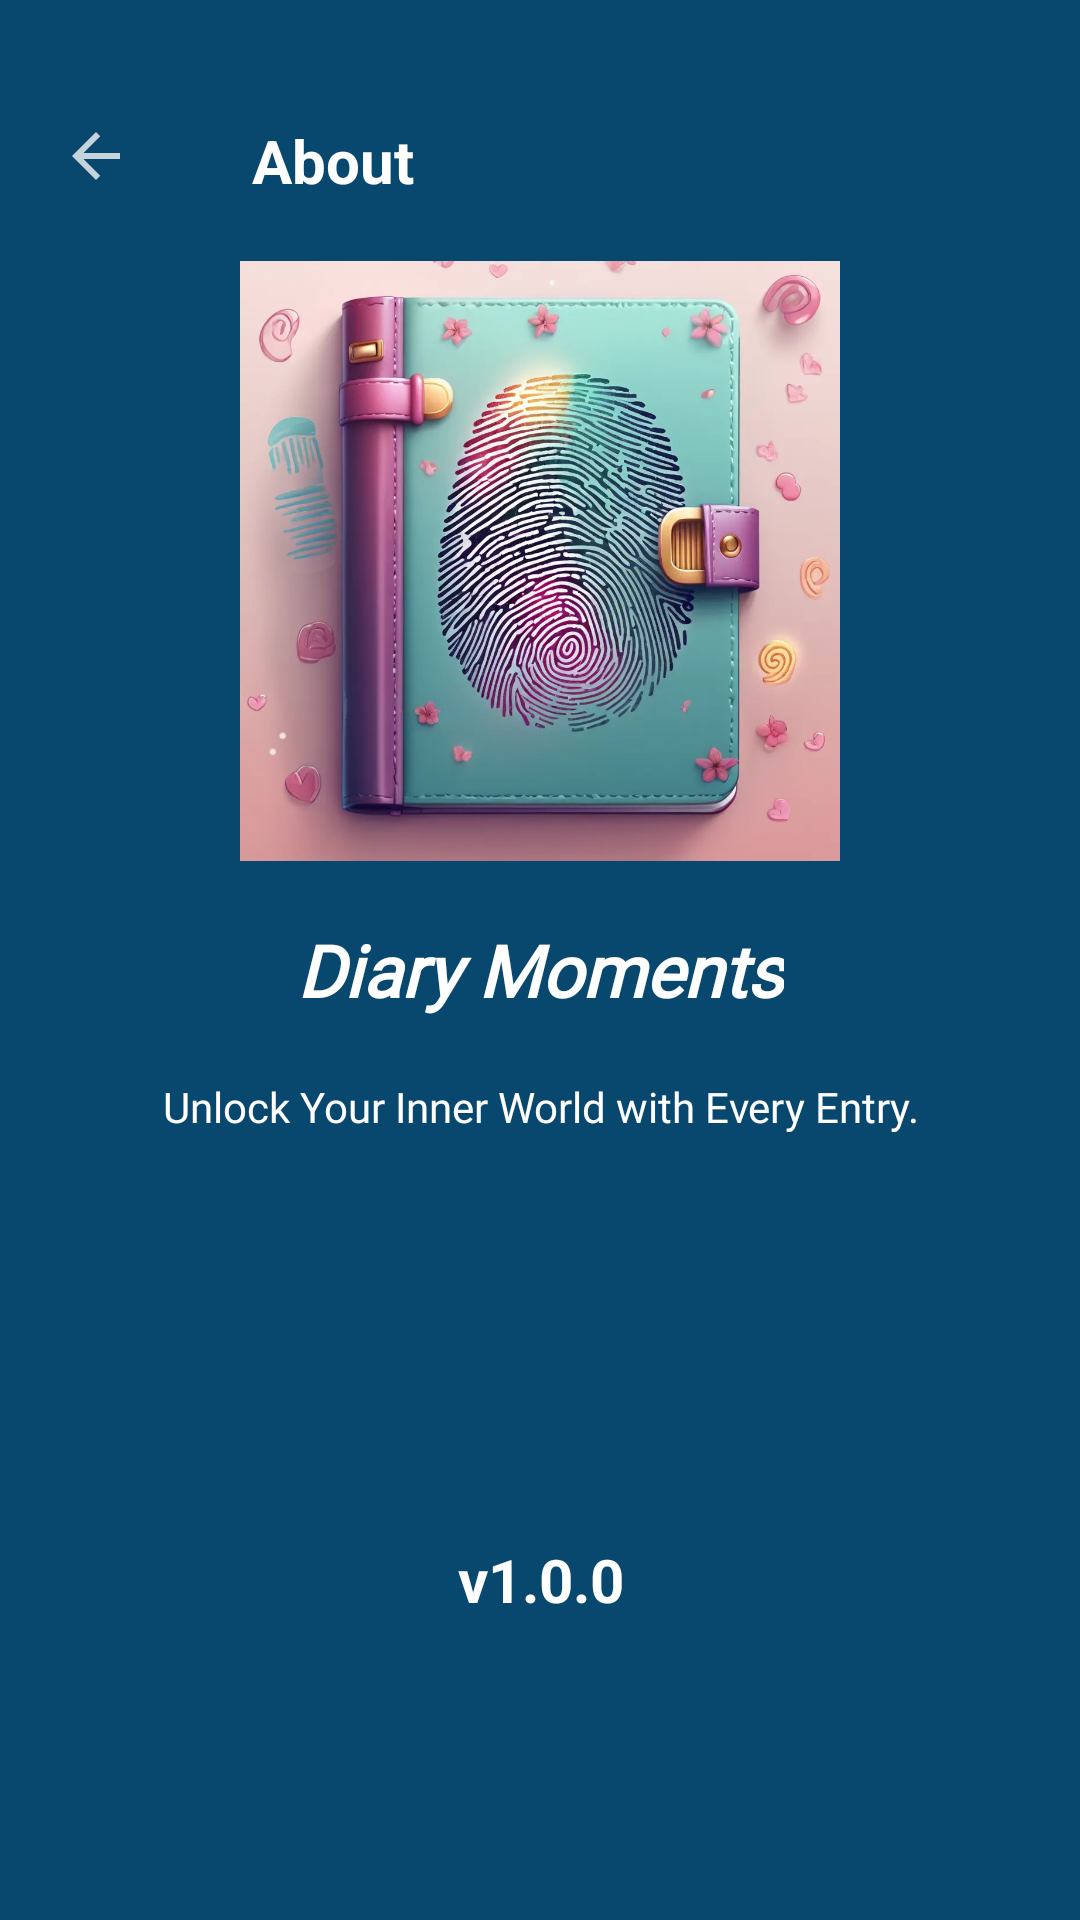

Screen size 1080w x 1920h. Icon name, then its box in pixels as bbox=(x1, y1, x2, y2):
arrow back: bbox=(72, 132, 120, 180)
